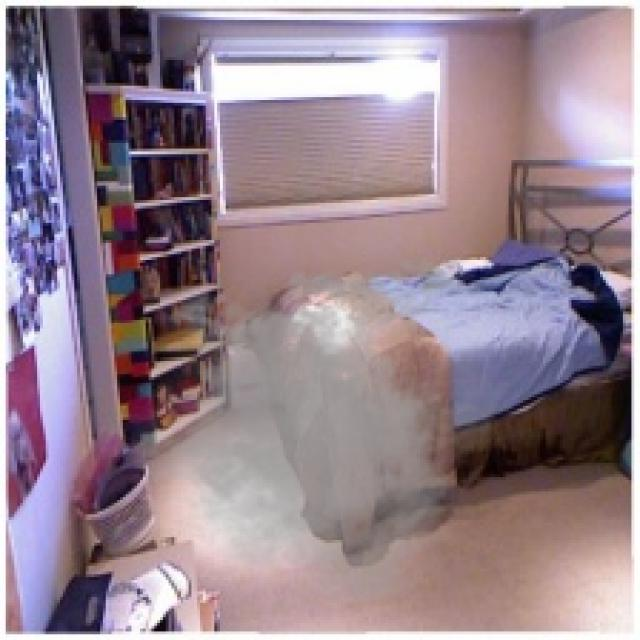smoke: (112, 248, 517, 608)
